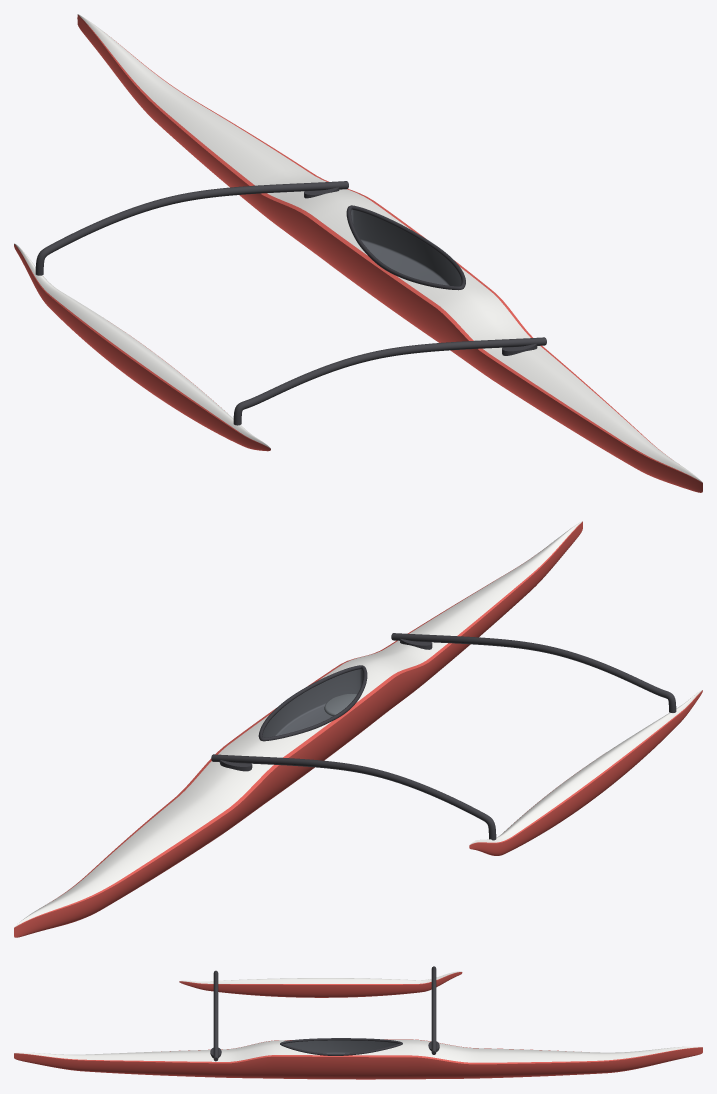
File: canoe.glb
The picture shows the model from 3 angles, top to bottom: view 1: azimuth 30°, elevation 25°; view 2: azimuth 150°, elevation 25°; view 3: azimuth 270°, elevation 25°; orthographic projection. The views are drawn at different scales.
Parts seen in each view (by area): view 1: canoe; view 2: canoe; view 3: canoe.
Boxes of the visible parts, x1,y1,x2,y2 form: canoe: (14, 14, 702, 492); canoe: (14, 521, 702, 937); canoe: (14, 966, 702, 1079).
Size of the model in its own units: 2.2 by 0.5612 by 7.3.
